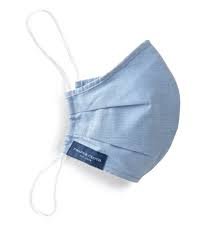cloth_mask: (25, 4, 182, 231)
